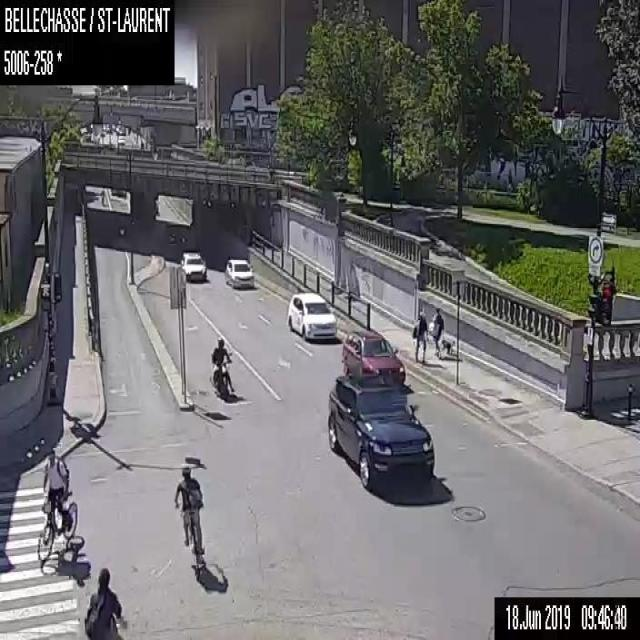cyclist: (36, 449, 78, 563), (173, 464, 205, 581), (84, 565, 122, 639)
pedestrian: (428, 306, 455, 360), (411, 309, 428, 364), (100, 186, 105, 205)
vehicle: (327, 374, 434, 488), (342, 329, 404, 381), (286, 292, 336, 340), (210, 338, 233, 395), (225, 258, 253, 288), (180, 251, 205, 281), (117, 135, 125, 143)
